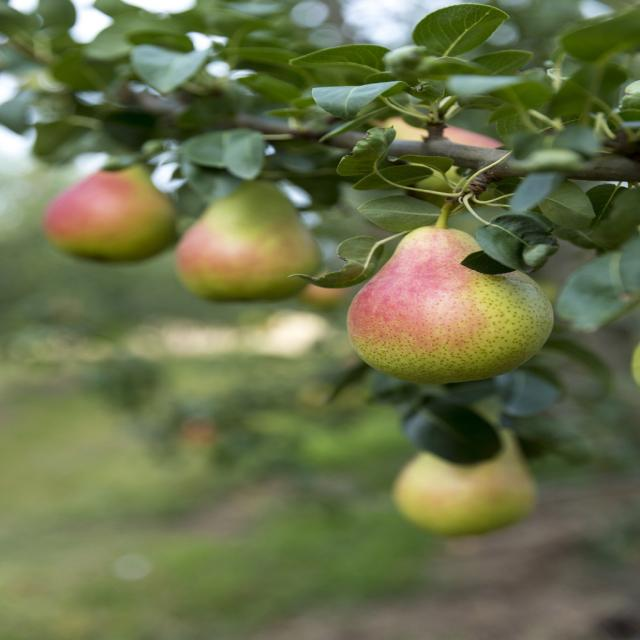pear: (348, 200, 556, 384), (387, 391, 545, 537), (174, 175, 322, 303), (44, 148, 180, 266), (348, 117, 509, 205)
